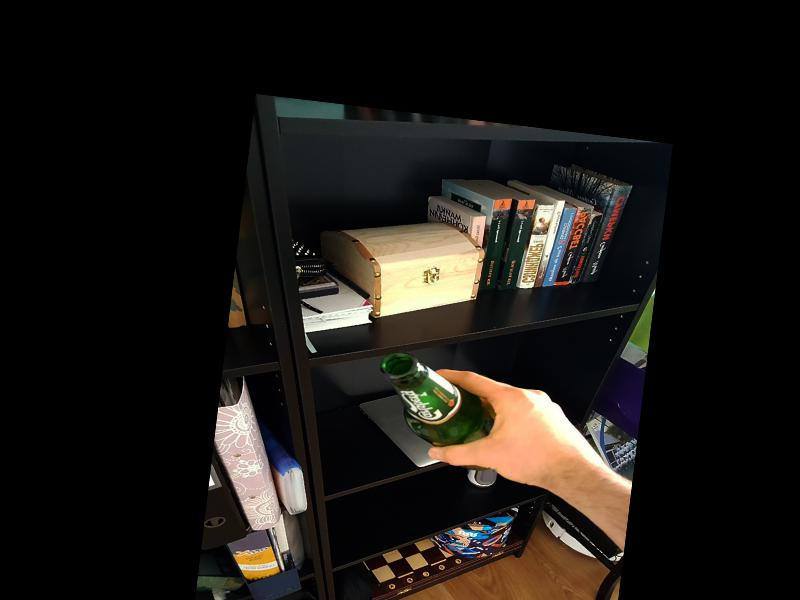Beer: (368, 351, 508, 473)
